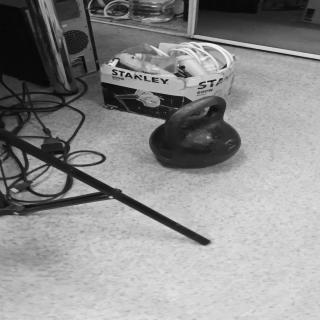kettlebell: (149, 96, 242, 171)
